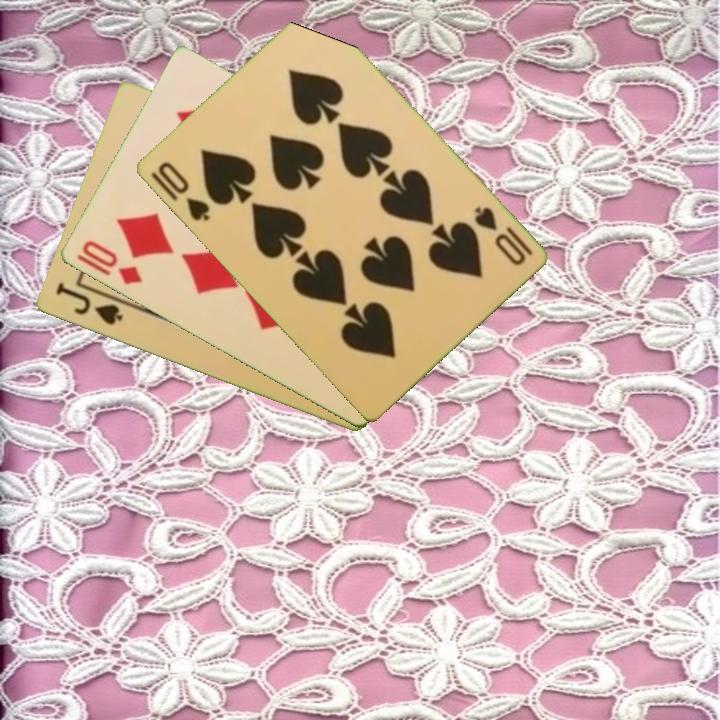10d: (73, 237, 146, 288)
10s: (146, 158, 212, 225), (470, 202, 536, 269)
Js: (51, 279, 126, 328)
